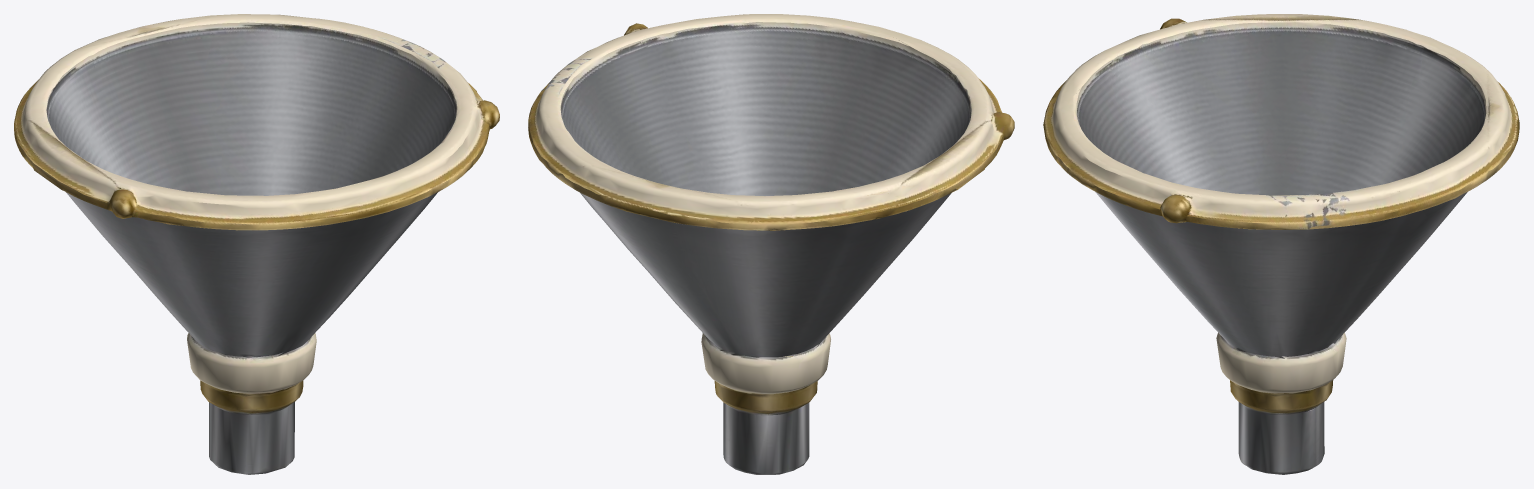
The model's file is device-funnel.glb.
3 views of the same model, side by side, from view 1: azimuth 30°, elevation 25°; view 2: azimuth 150°, elevation 25°; view 3: azimuth 270°, elevation 25° (orthographic).
Visible parts, largest first — view 1: web; view 2: web; view 3: web.
Boxes of the visible parts, <box> form: web: <box>14,14,499,474</box>; web: <box>528,14,1014,474</box>; web: <box>1043,14,1519,474</box>.
Bounding box in the file's own units: 0.0919 × 0.075 × 0.0921.
1 material, 1 textured.
